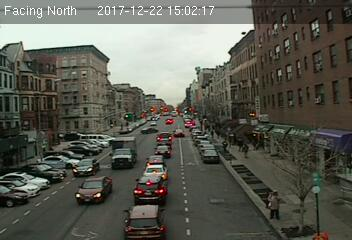car: (122, 204, 167, 239), (76, 175, 113, 205), (135, 175, 169, 203), (73, 158, 99, 176), (140, 165, 169, 179), (202, 149, 221, 165), (145, 155, 168, 166), (153, 145, 170, 156), (174, 128, 183, 136)
truck: (110, 138, 138, 170)
